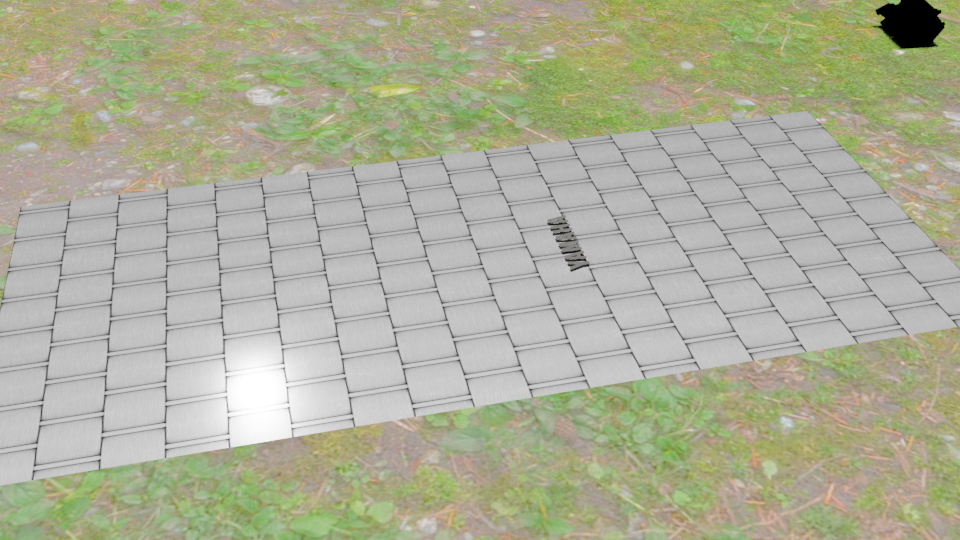yamaha_letters: (546, 214, 590, 270)
